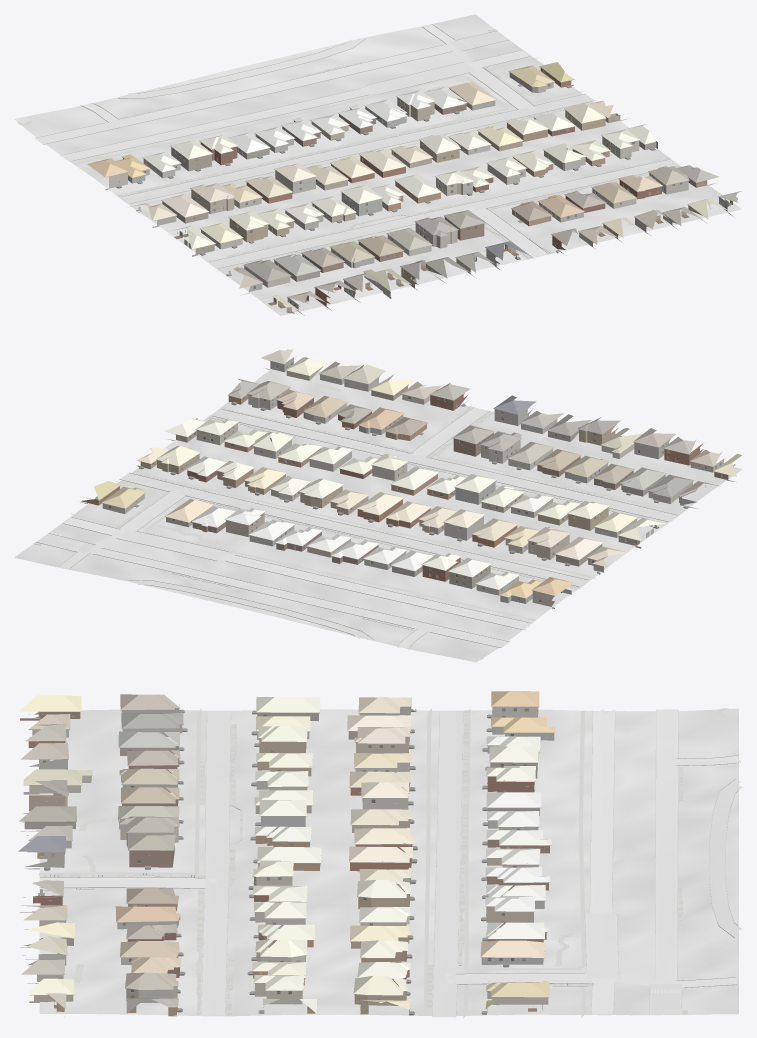
3 views of the same model, one above another, from view 1: azimuth 30°, elevation 25°; view 2: azimuth 150°, elevation 25°; view 3: azimuth 270°, elevation 25° (orthographic). The views are drawn at different scales.
Parts seen in each view (by area): view 1: ground, roof, concrete, wall, asphalt, wall_stucco, walk, curb, detail, wall_stone, room, glass (+1 smaller); view 2: ground, roof, concrete, wall, asphalt, wall_stucco, walk, curb, detail, wall_stone, glass, mark_w; view 3: ground, roof, concrete, asphalt, walk, wall, wall_stucco, detail, curb, wall_stone, mark_w, mark_y (+1 smaller).
Boxes of the visible parts, x1,y1,x2,y2 form: ground: (14, 14, 741, 315); roof: (87, 62, 741, 311); concrete: (83, 24, 677, 268); wall: (162, 68, 715, 310); asphalt: (35, 31, 529, 160); wall_stucco: (105, 89, 732, 315); walk: (17, 29, 681, 271); curb: (35, 24, 677, 268); detail: (105, 66, 730, 306); wall_stone: (143, 72, 650, 276); room: (174, 113, 732, 313); glass: (143, 84, 726, 306); ground: (14, 369, 742, 662); roof: (94, 349, 741, 598); concrete: (59, 407, 677, 648); wall: (80, 384, 734, 588); asphalt: (37, 517, 529, 647); wall_stucco: (166, 357, 723, 608); walk: (34, 383, 682, 660); curb: (33, 407, 677, 649); detail: (86, 356, 726, 602); wall_stone: (102, 375, 636, 595); glass: (109, 363, 720, 600); mark_w: (36, 451, 528, 647); ground: (39, 708, 738, 1016); roof: (18, 691, 555, 1013); concrete: (39, 711, 742, 1017); asphalt: (585, 709, 681, 1014); walk: (39, 708, 728, 1018); wall: (20, 712, 549, 1016); wall_stucco: (23, 707, 554, 1004); detail: (22, 705, 554, 1015); curb: (39, 709, 740, 1016); wall_stone: (28, 731, 548, 1004); mark_w: (197, 709, 680, 1014); mark_y: (610, 709, 657, 1014).
Size of the model in its own units: 263 by 13.89 by 261.
